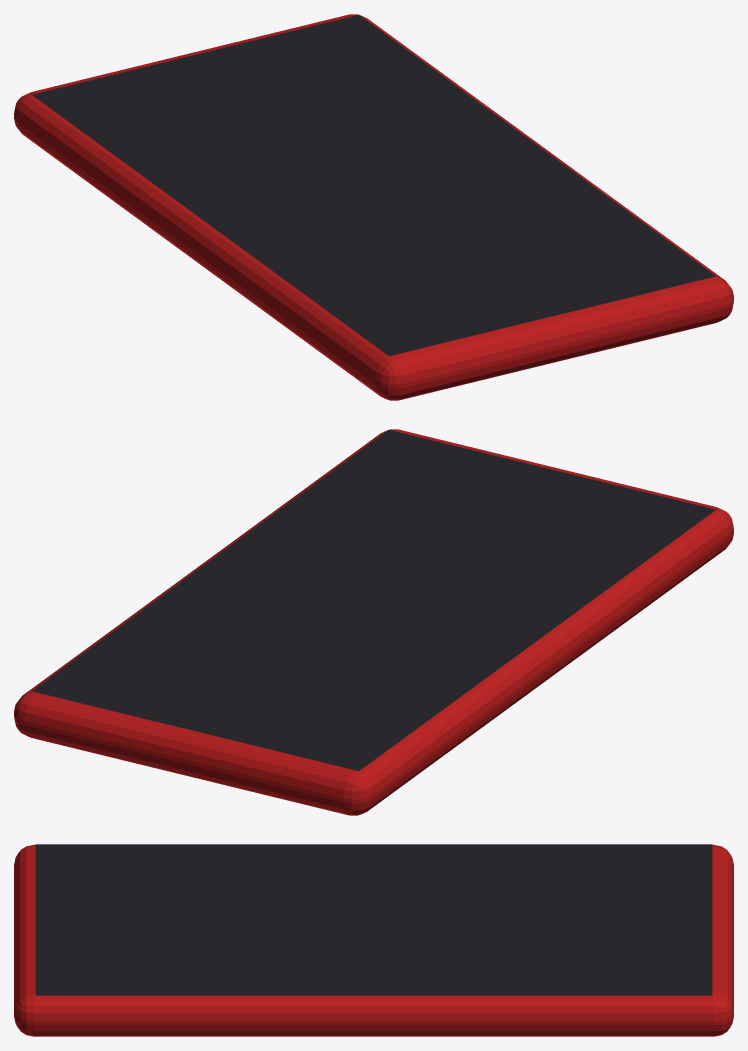
The model's file is google-pixel-a-model-382-budget-2022.glb.
3 views of the same model, one above another, from view 1: azimuth 30°, elevation 25°; view 2: azimuth 150°, elevation 25°; view 3: azimuth 270°, elevation 25° (orthographic). The views are drawn at different scales.
Visible parts, largest first — view 1: Phone_Screen, Phone_Body; view 2: Phone_Screen, Phone_Body; view 3: Phone_Screen, Phone_Body.
Part boxes in pixels (bbox=[...]): Phone_Screen: bbox=[32, 15, 715, 355]; Phone_Body: bbox=[14, 14, 733, 400]; Phone_Screen: bbox=[32, 430, 715, 770]; Phone_Body: bbox=[14, 429, 733, 815]; Phone_Screen: bbox=[35, 844, 712, 995]; Phone_Body: bbox=[14, 844, 733, 1036].
Size of the model in its own units: 0.0762 by 0.0089 by 0.1409.
